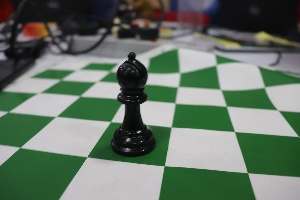black_bishop: (112, 50, 157, 163)
